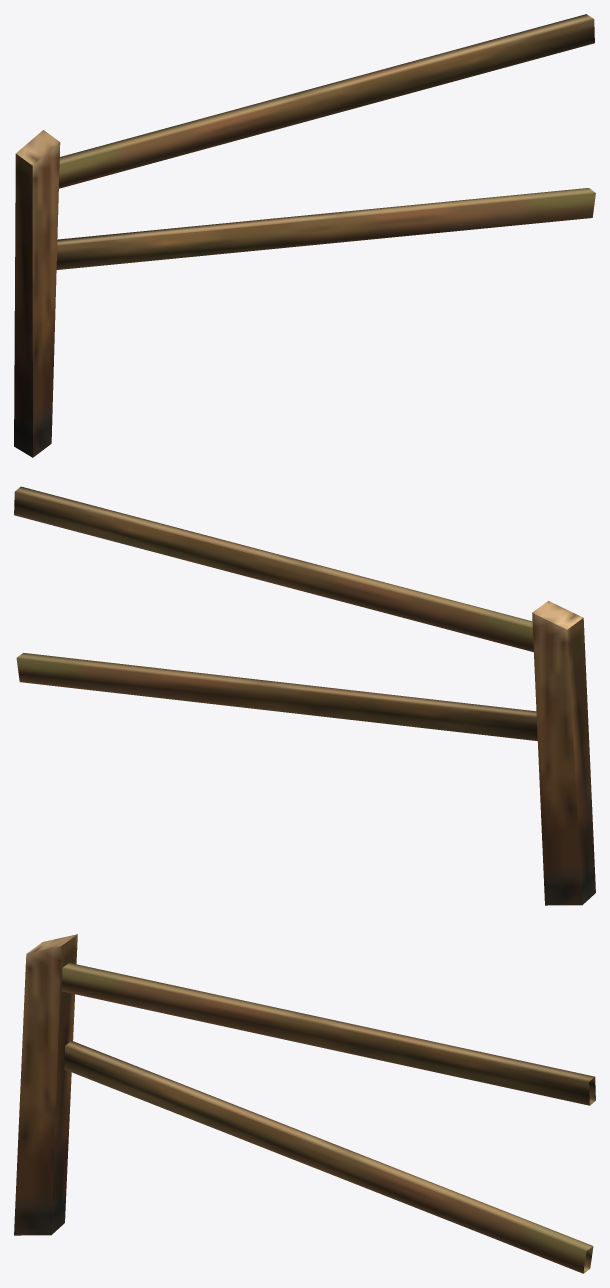
Rendered from general_obj_fence06.fbx.
3 views of the same model, one above another, from view 1: azimuth 30°, elevation 25°; view 2: azimuth 150°, elevation 25°; view 3: azimuth 330°, elevation 25° (orthographic). The views are drawn at different scales.
Visible parts, largest first — view 1: Sphere01; view 2: Sphere01; view 3: Sphere01.
Boxes of the visible parts, x1,y1,x2,y2 form: Sphere01: (14,14,595,457); Sphere01: (14,486,595,905); Sphere01: (14,934,595,1273).
Size of the model in its own units: 4.29 by 2.11 by 0.3533.
